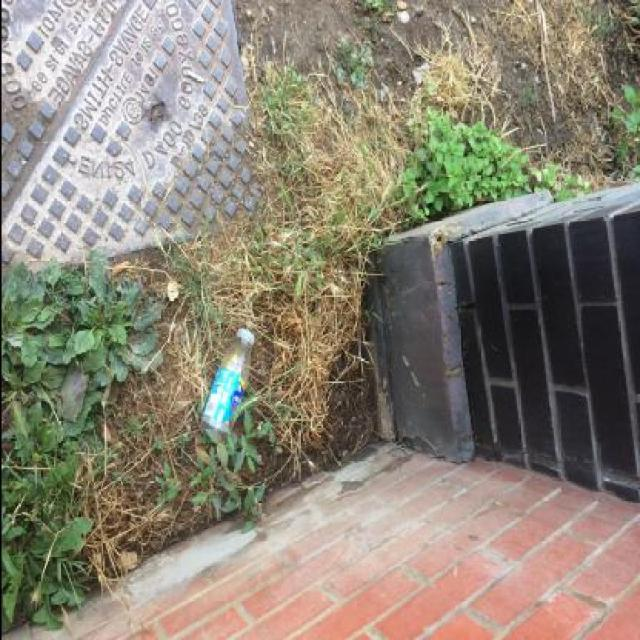plastic: (198, 328, 253, 444)
